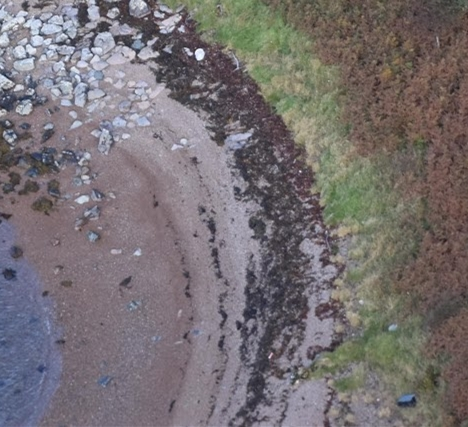scattered_barrel: (94, 296, 207, 391)
white_in_green: (377, 379, 437, 423), (176, 35, 226, 79)
